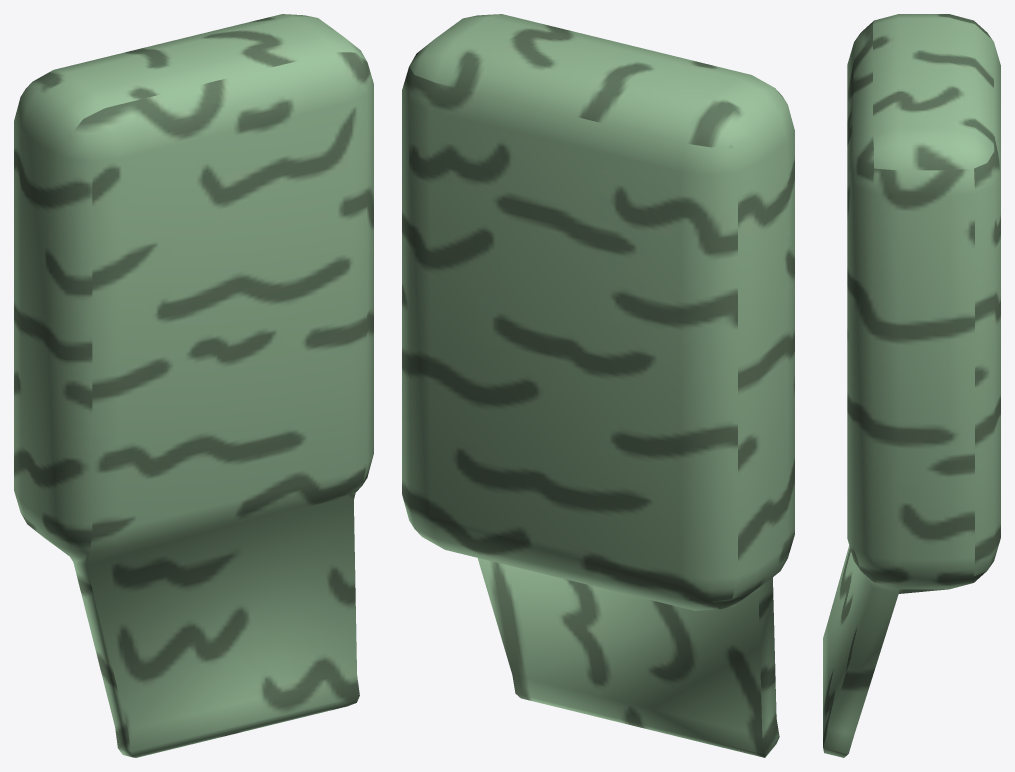
The model's file is item-war-hat.glb.
3 renders of one model, left to right at view 1: azimuth 30°, elevation 25°; view 2: azimuth 150°, elevation 25°; view 3: azimuth 270°, elevation 25°, orthographic. The views are drawn at different scales.
Size of the model in its own units: 0.3933 by 0.7568 by 0.193.
Materials: 1 (1 with a texture image).
